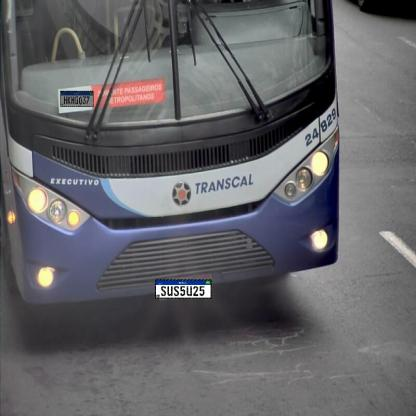PlacaM: (155, 279, 212, 299), (60, 91, 94, 107)
